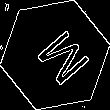M_SW: (23, 21, 87, 89)
